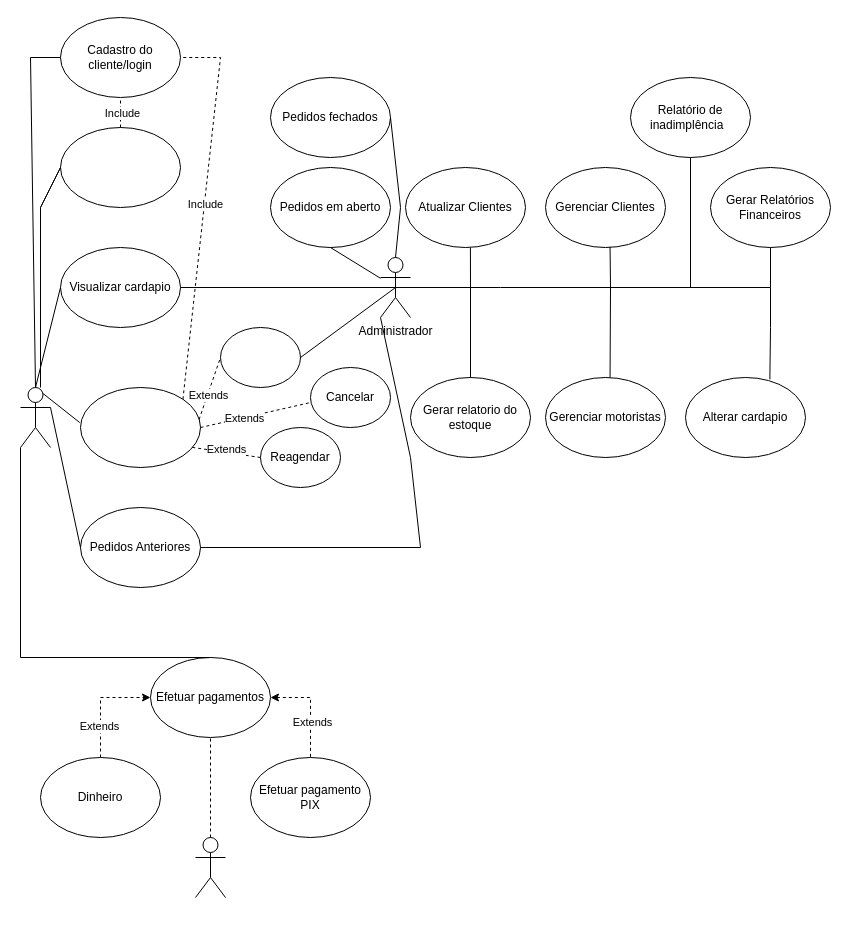
Image size: 848x936. Some labels were removed from this diagram. The centre of each missing label's shape, as x and y in pixels:
"Atualizar dados pessoais" goes at [120,167].
"Cliente" goes at [35,417].
"Realizar pedido" goes at [140,427].
"Sistema de pagamento" goes at [210,867].
"Status do pedido" goes at [260,357].
